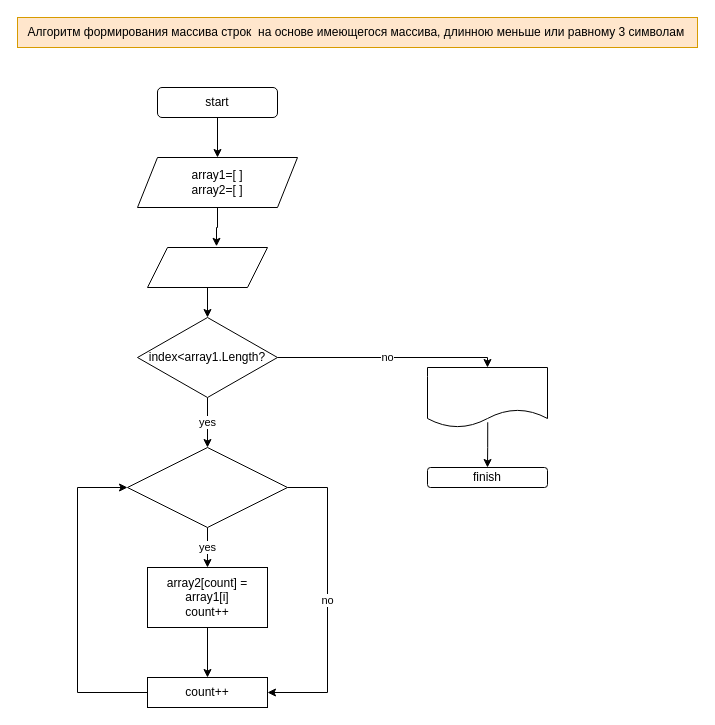
Image size: 715x725. Some labels were removed from this diagram. The shapes that lost their labels are listed below. From the top down, each one's box as (x1, y1, x2, y2) in pixels, then its label:
(146, 246, 268, 288): count =0
(426, 366, 548, 428): PrintArray
(126, 446, 288, 528): array1[i]Length <=3
